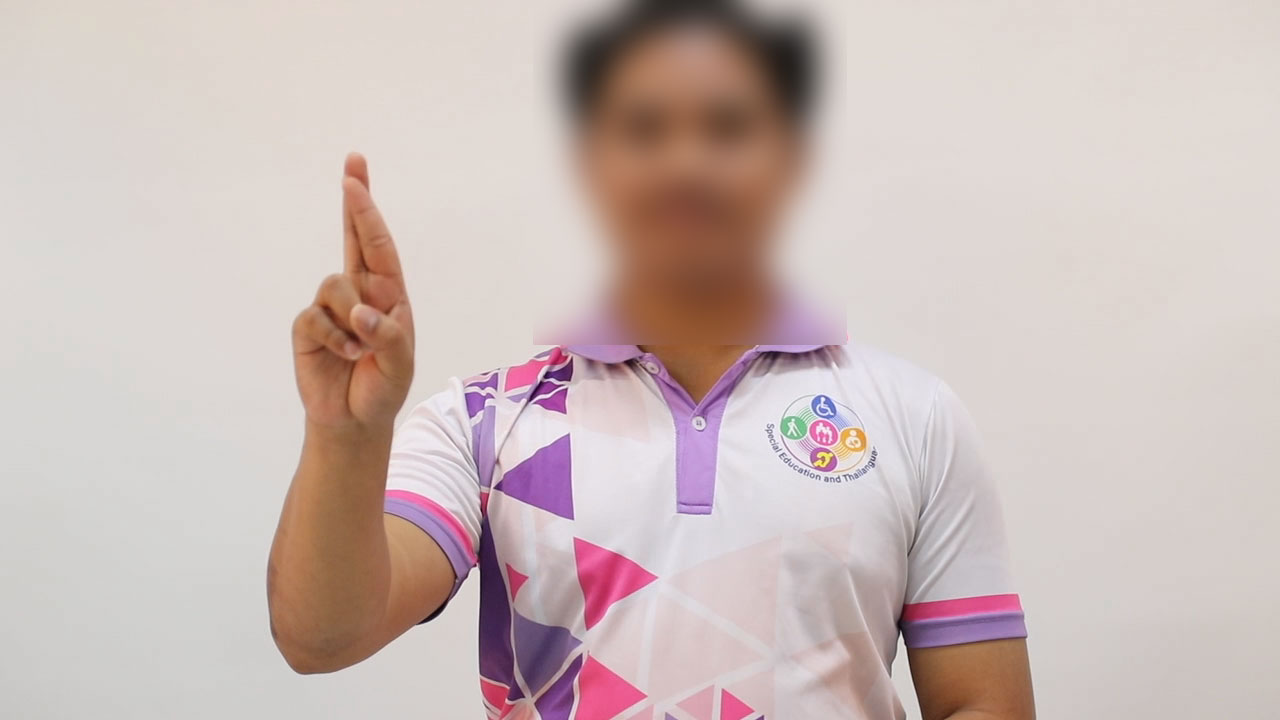rao: (273, 147, 425, 437)
